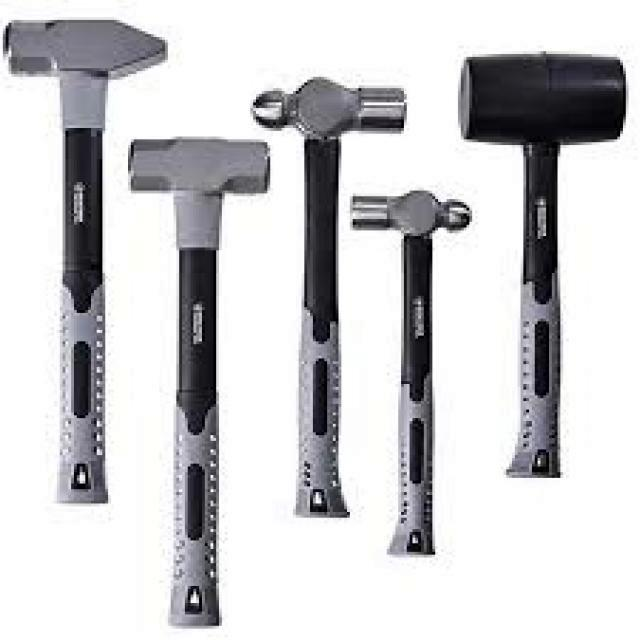hammer: (0, 11, 171, 512), (445, 49, 630, 493), (250, 51, 410, 543), (126, 121, 272, 633), (344, 178, 486, 568)
